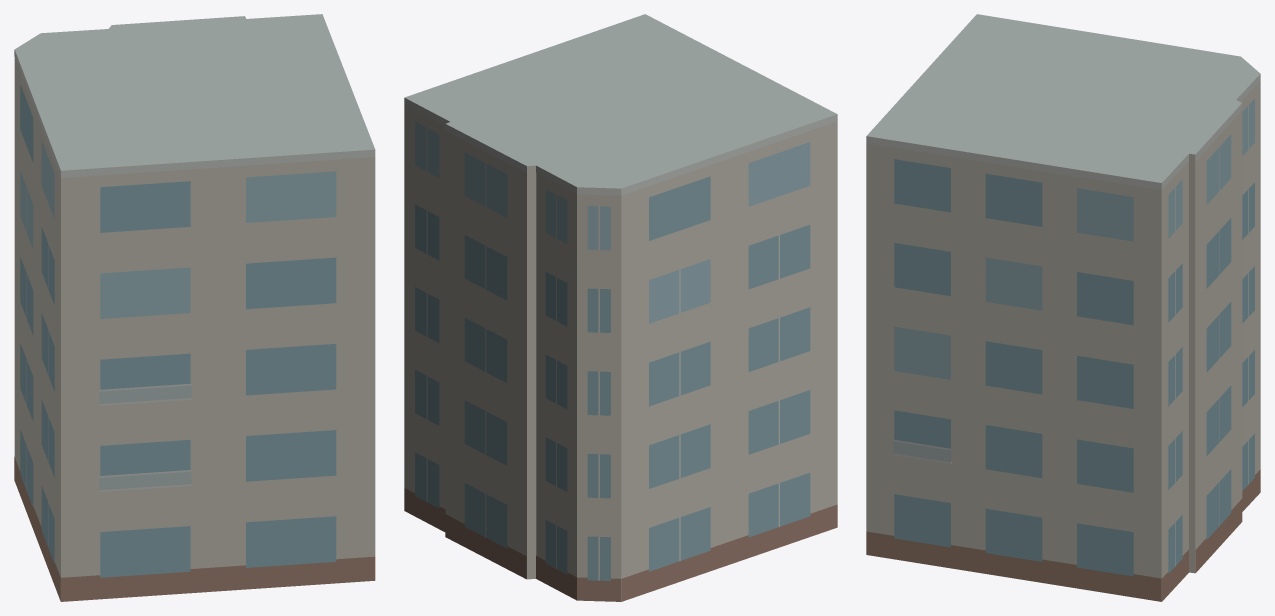
Rendered from survey-upis-32692765.glb.
3 views of the same model, side by side, from view 1: azimuth 30°, elevation 25°; view 2: azimuth 150°, elevation 25°; view 3: azimuth 270°, elevation 25° (orthographic). The views are drawn at different scales.
Parts seen in each view (by area): view 1: survey-upis-32692765.tmp; view 2: survey-upis-32692765.tmp; view 3: survey-upis-32692765.tmp.
Part boxes in pixels (x1,y1,x2,y2): survey-upis-32692765.tmp: (14,14,375,601); survey-upis-32692765.tmp: (404,14,837,601); survey-upis-32692765.tmp: (866,14,1260,601).
Size of the model in its own units: 12.39 by 14.3 by 12.21.
